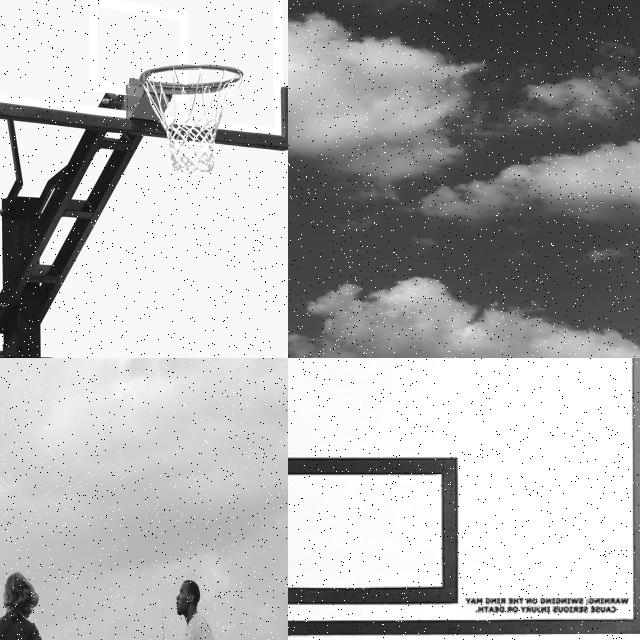backboard: (288, 358, 640, 640), (0, 0, 287, 161)
